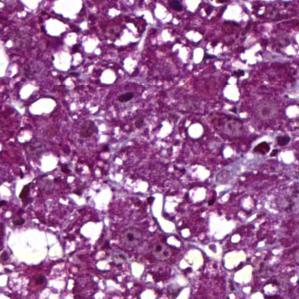ballooning: (4, 223, 66, 266)
